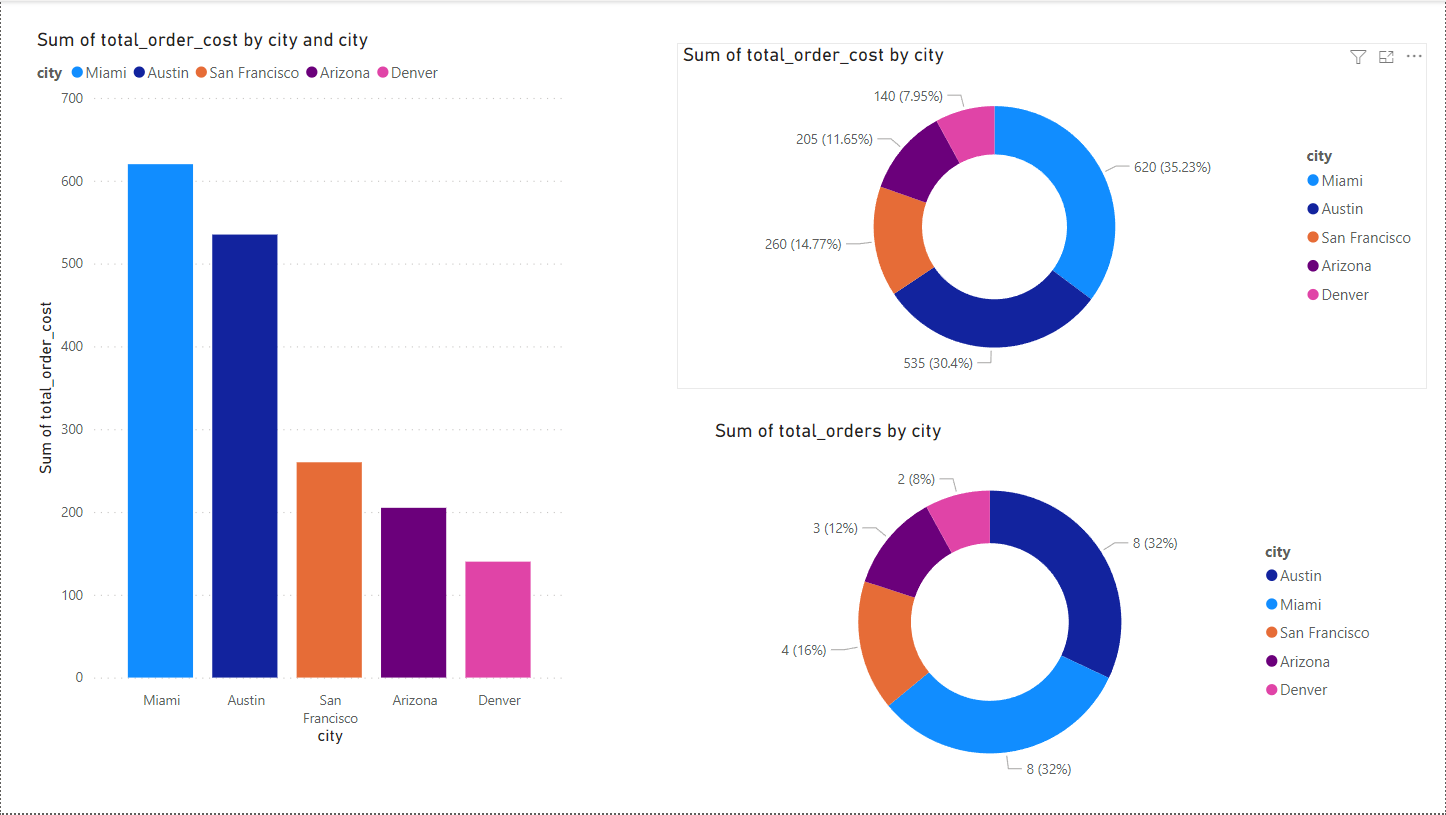

The page's visual inventory and layout, read from the dashboard file:
{"tool":"powerbi","page":{"name":"Page 1","canvas":[1280,720],"ordinal":0},"visuals":[{"type":"columnChart","fields":{"Category":["Table.city"],"Y":["Sum(Table.sum(total_order_cost))"],"Series":["Table.city"]},"box":[26.3,24.3,480.5,640],"z":0},{"type":"donutChart","fields":{"Category":["Table.city"],"Y":["Sum(Table.sum(total_order_cost))"]},"box":[599.1,37,665.3,307.4],"z":1},{"type":"donutChart","fields":{"Category":["Table.city"],"Y":["Sum(Table.count(order_details))"]},"box":[627.4,370.6,600.1,341.4],"z":2}]}

Visuals, with their boxes in screenshot pixels (x1, y1, x2, y2), scaled from the page's 1280x720 canvas onto the 1446x815 screenshot:
columnChart - Table.city x Sum(Table.sum(total_order_cost)): bbox(30, 28, 573, 752)
donutChart - Table.city x Sum(Table.sum(total_order_cost)): bbox(677, 42, 1428, 390)
donutChart - Table.city x Sum(Table.count(order_details)): bbox(709, 419, 1387, 806)
